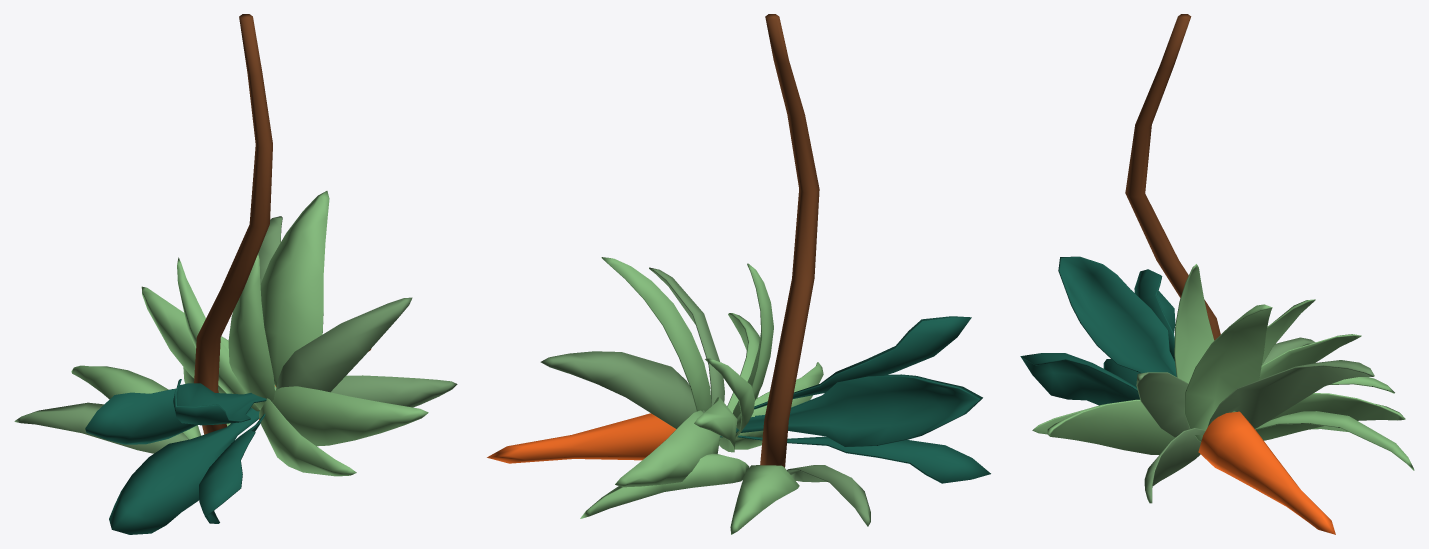
The model's file is Tree-Carrot-no3.gltf.
The picture shows the model from 3 angles, left to right: view 1: azimuth 30°, elevation 25°; view 2: azimuth 150°, elevation 25°; view 3: azimuth 270°, elevation 25°; orthographic projection. The views are drawn at different scales.
Parts seen in each view (by area): view 1: Tree-Carrot-no3; view 2: Tree-Carrot-no3; view 3: Tree-Carrot-no3.
Boxes of the visible parts, x1=… form: Tree-Carrot-no3: x1=14, y1=14, x2=457, y2=534; Tree-Carrot-no3: x1=487, y1=14, x2=990, y2=534; Tree-Carrot-no3: x1=1020, y1=14, x2=1414, y2=534.
Size of the model in its own units: 3.31 by 3.72 by 2.97.
1 material, 1 textured.
